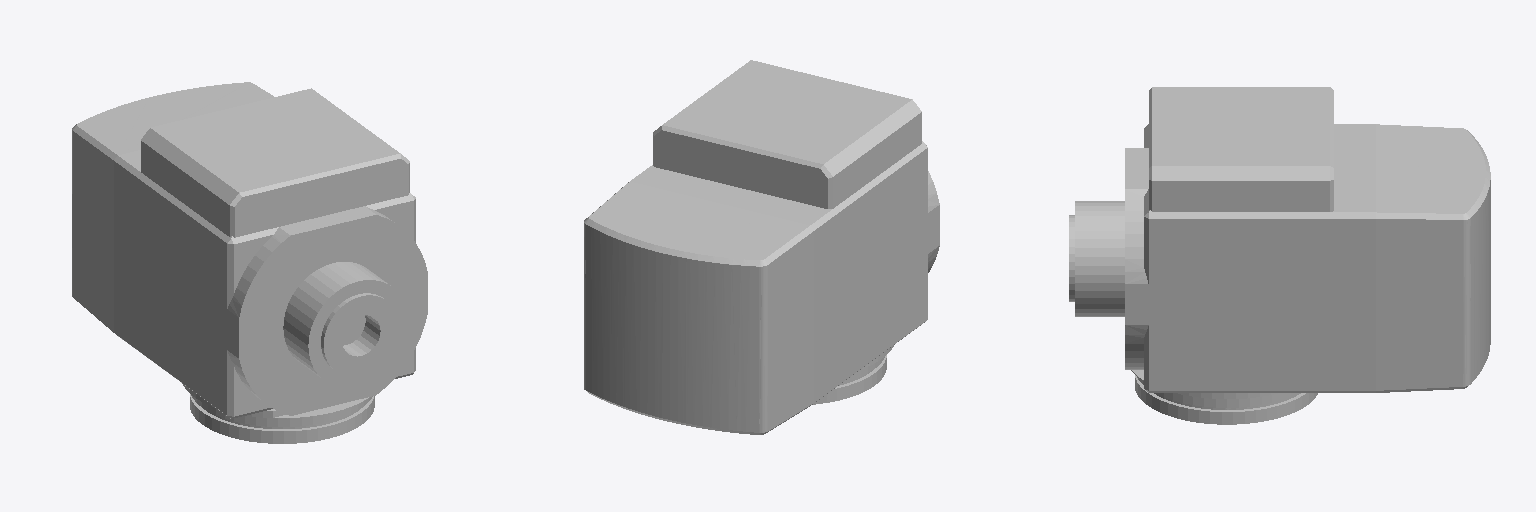
File: L6Spindle.obj
3 views of the same model, side by side, from view 1: azimuth 30°, elevation 25°; view 2: azimuth 150°, elevation 25°; view 3: azimuth 270°, elevation 25° (orthographic).
Parts seen in each view (by area): view 1: L6_L6.001; view 2: L6_L6.001; view 3: L6_L6.001.
Boxes of the visible parts, <box> form: L6_L6.001: <box>72,82,427,443</box>; L6_L6.001: <box>584,60,939,434</box>; L6_L6.001: <box>1069,87,1490,424</box>.
Bounding box in the file's own units: 0.235 × 0.3085 × 0.4545.